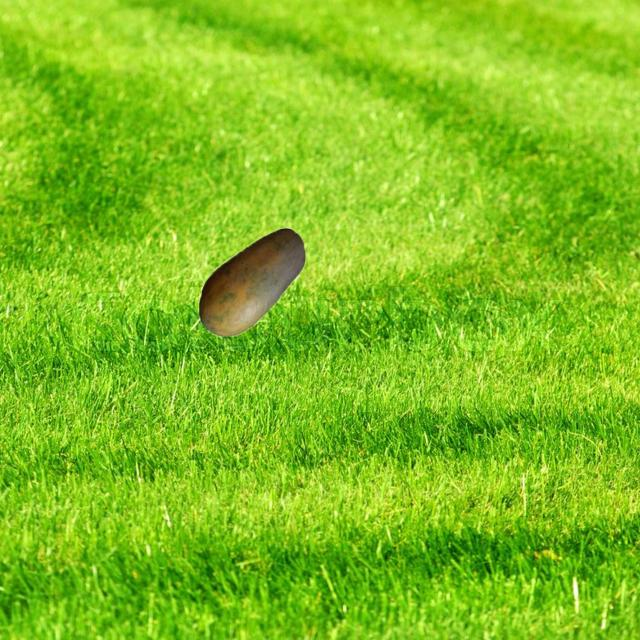Pepaya rippen: (200, 226, 314, 335)
